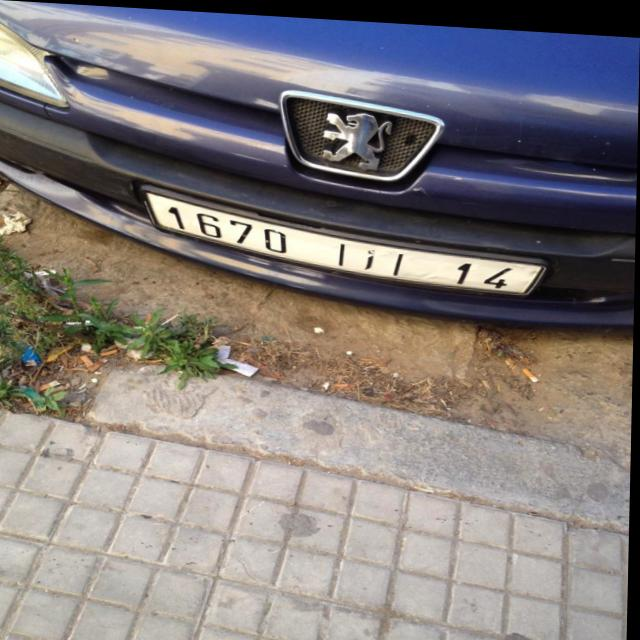License-Plate: (145, 190, 546, 288)
